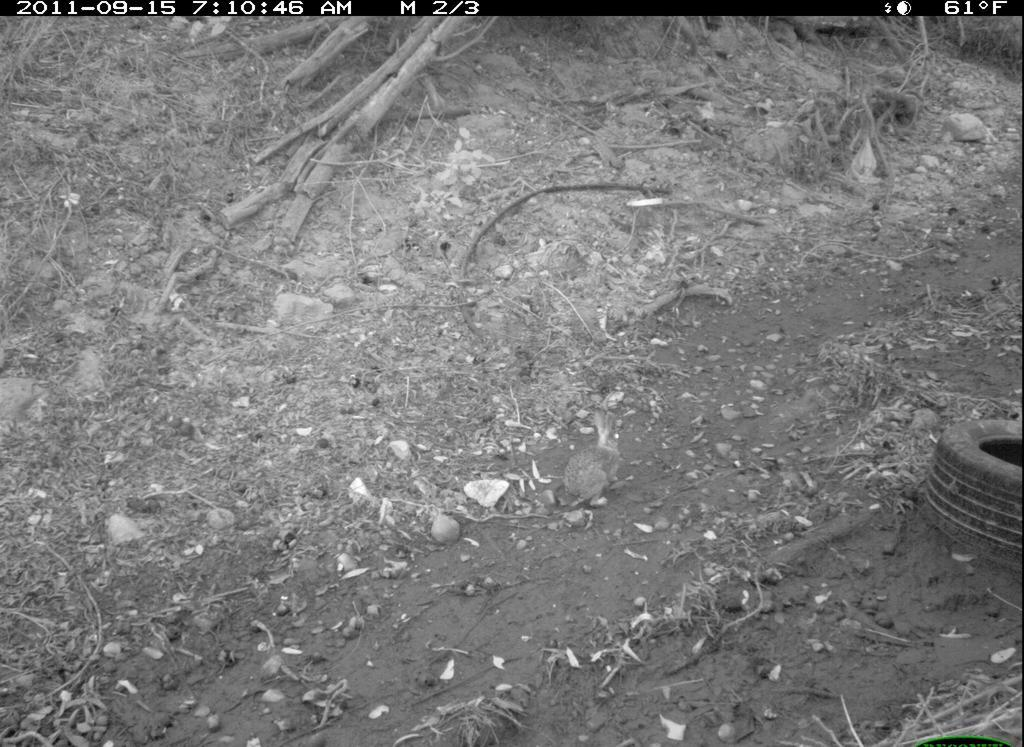rabbit: (559, 402, 637, 523)
